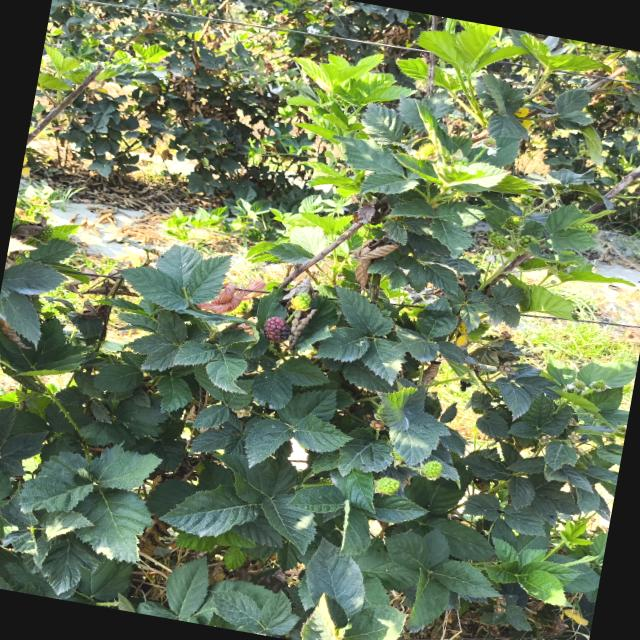marron: (264, 317, 291, 341)
verde: (291, 292, 310, 310)
